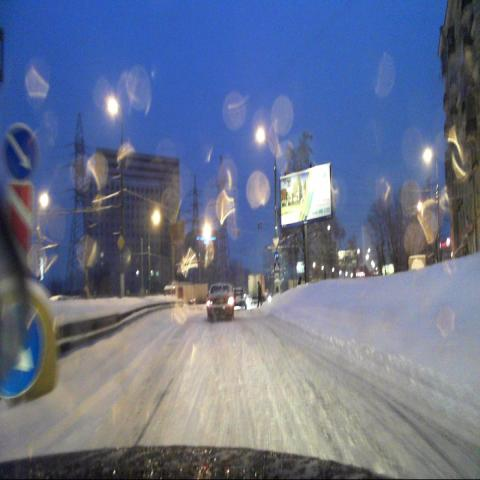4_2_1: (3, 123, 38, 182)
